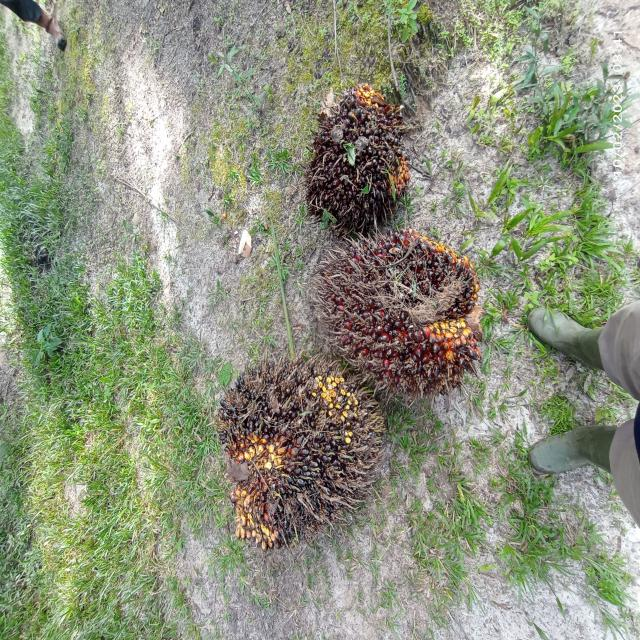fraksi 00: (178, 354, 386, 546), (295, 41, 433, 236)
fraksi 1: (270, 234, 518, 399)
